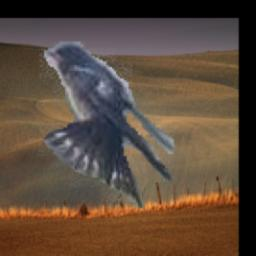Swallow: (40, 42, 175, 212)
